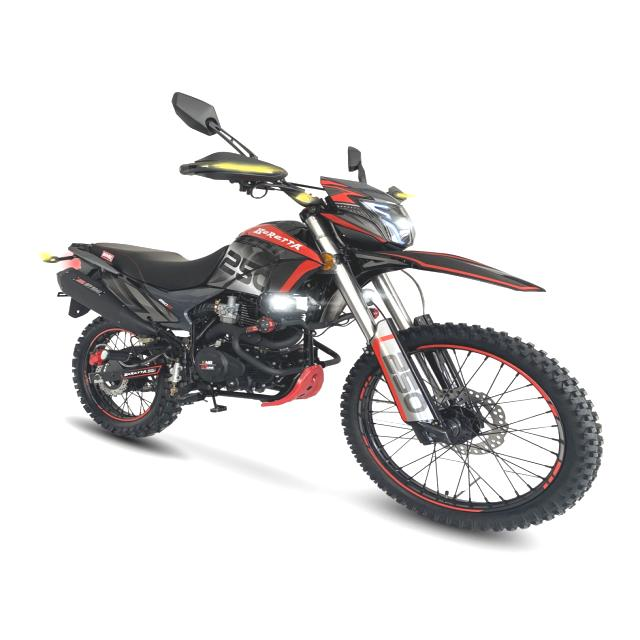MOTORCYCLE: (50, 96, 616, 523)
